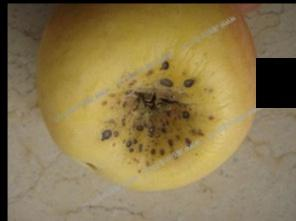rotten apple: (38, 3, 261, 191)
